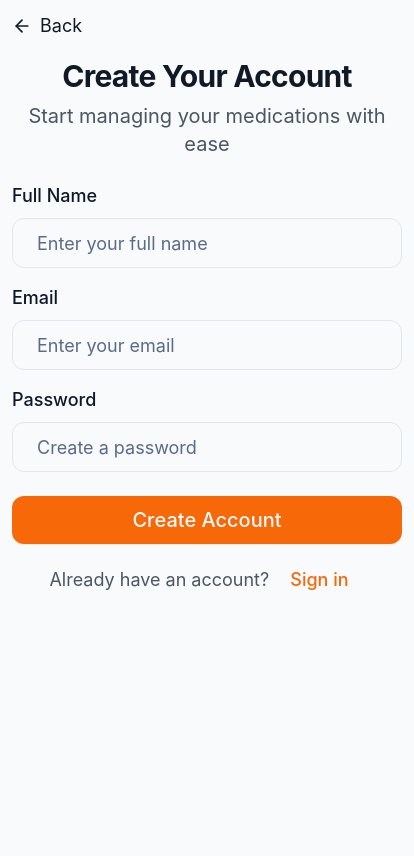
it: SignupForm › should show loading text when submitting
The width and height of the screenshot is (414, 856).
Type "Test User" into the field labelled "Full Name". click: (207, 243)
box: x1=12 y1=218 x2=402 y2=268
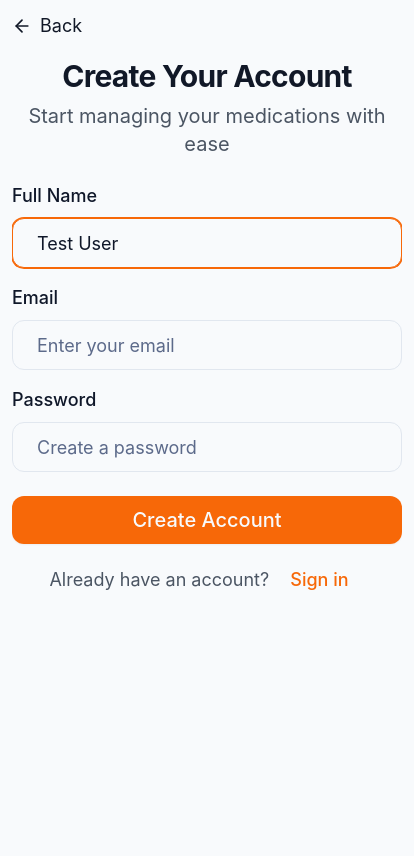
Type "test@example.com" into the field labelled "Email". click: (207, 345)
box: x1=12 y1=320 x2=402 y2=370
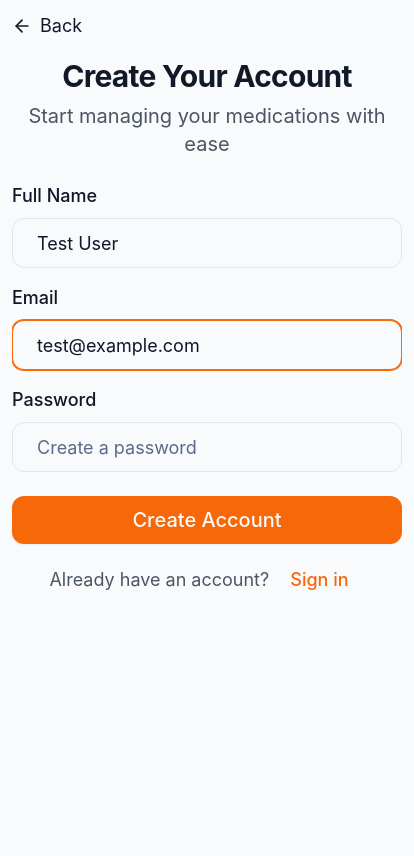
Type "password123" into the password field labelled "Password". click: (207, 447)
box: x1=12 y1=422 x2=402 y2=472
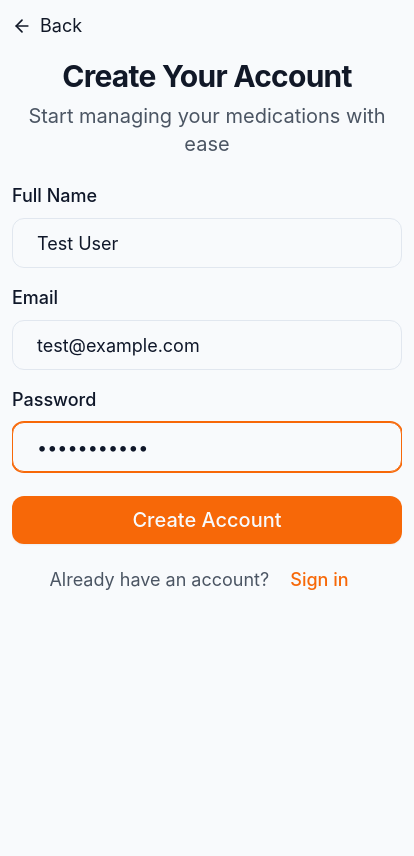
Click the button "Create Account". click: click(207, 520)
box: x1=12 y1=496 x2=402 y2=544
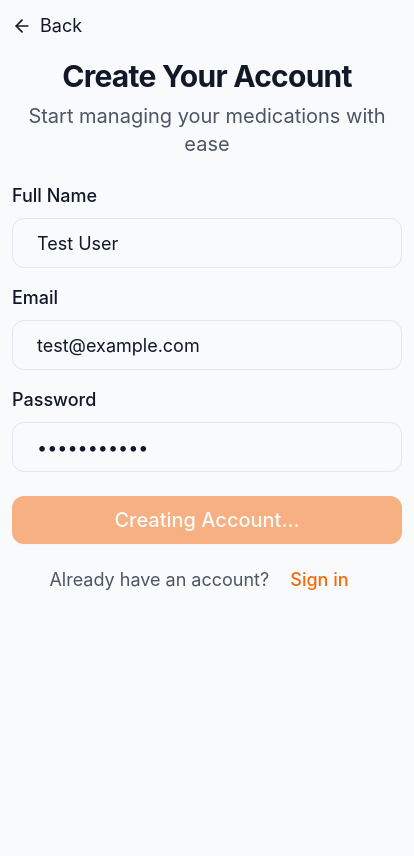
Expected: the button "Creating Account..." is disabled, x1=12 y1=496 x2=402 y2=544
